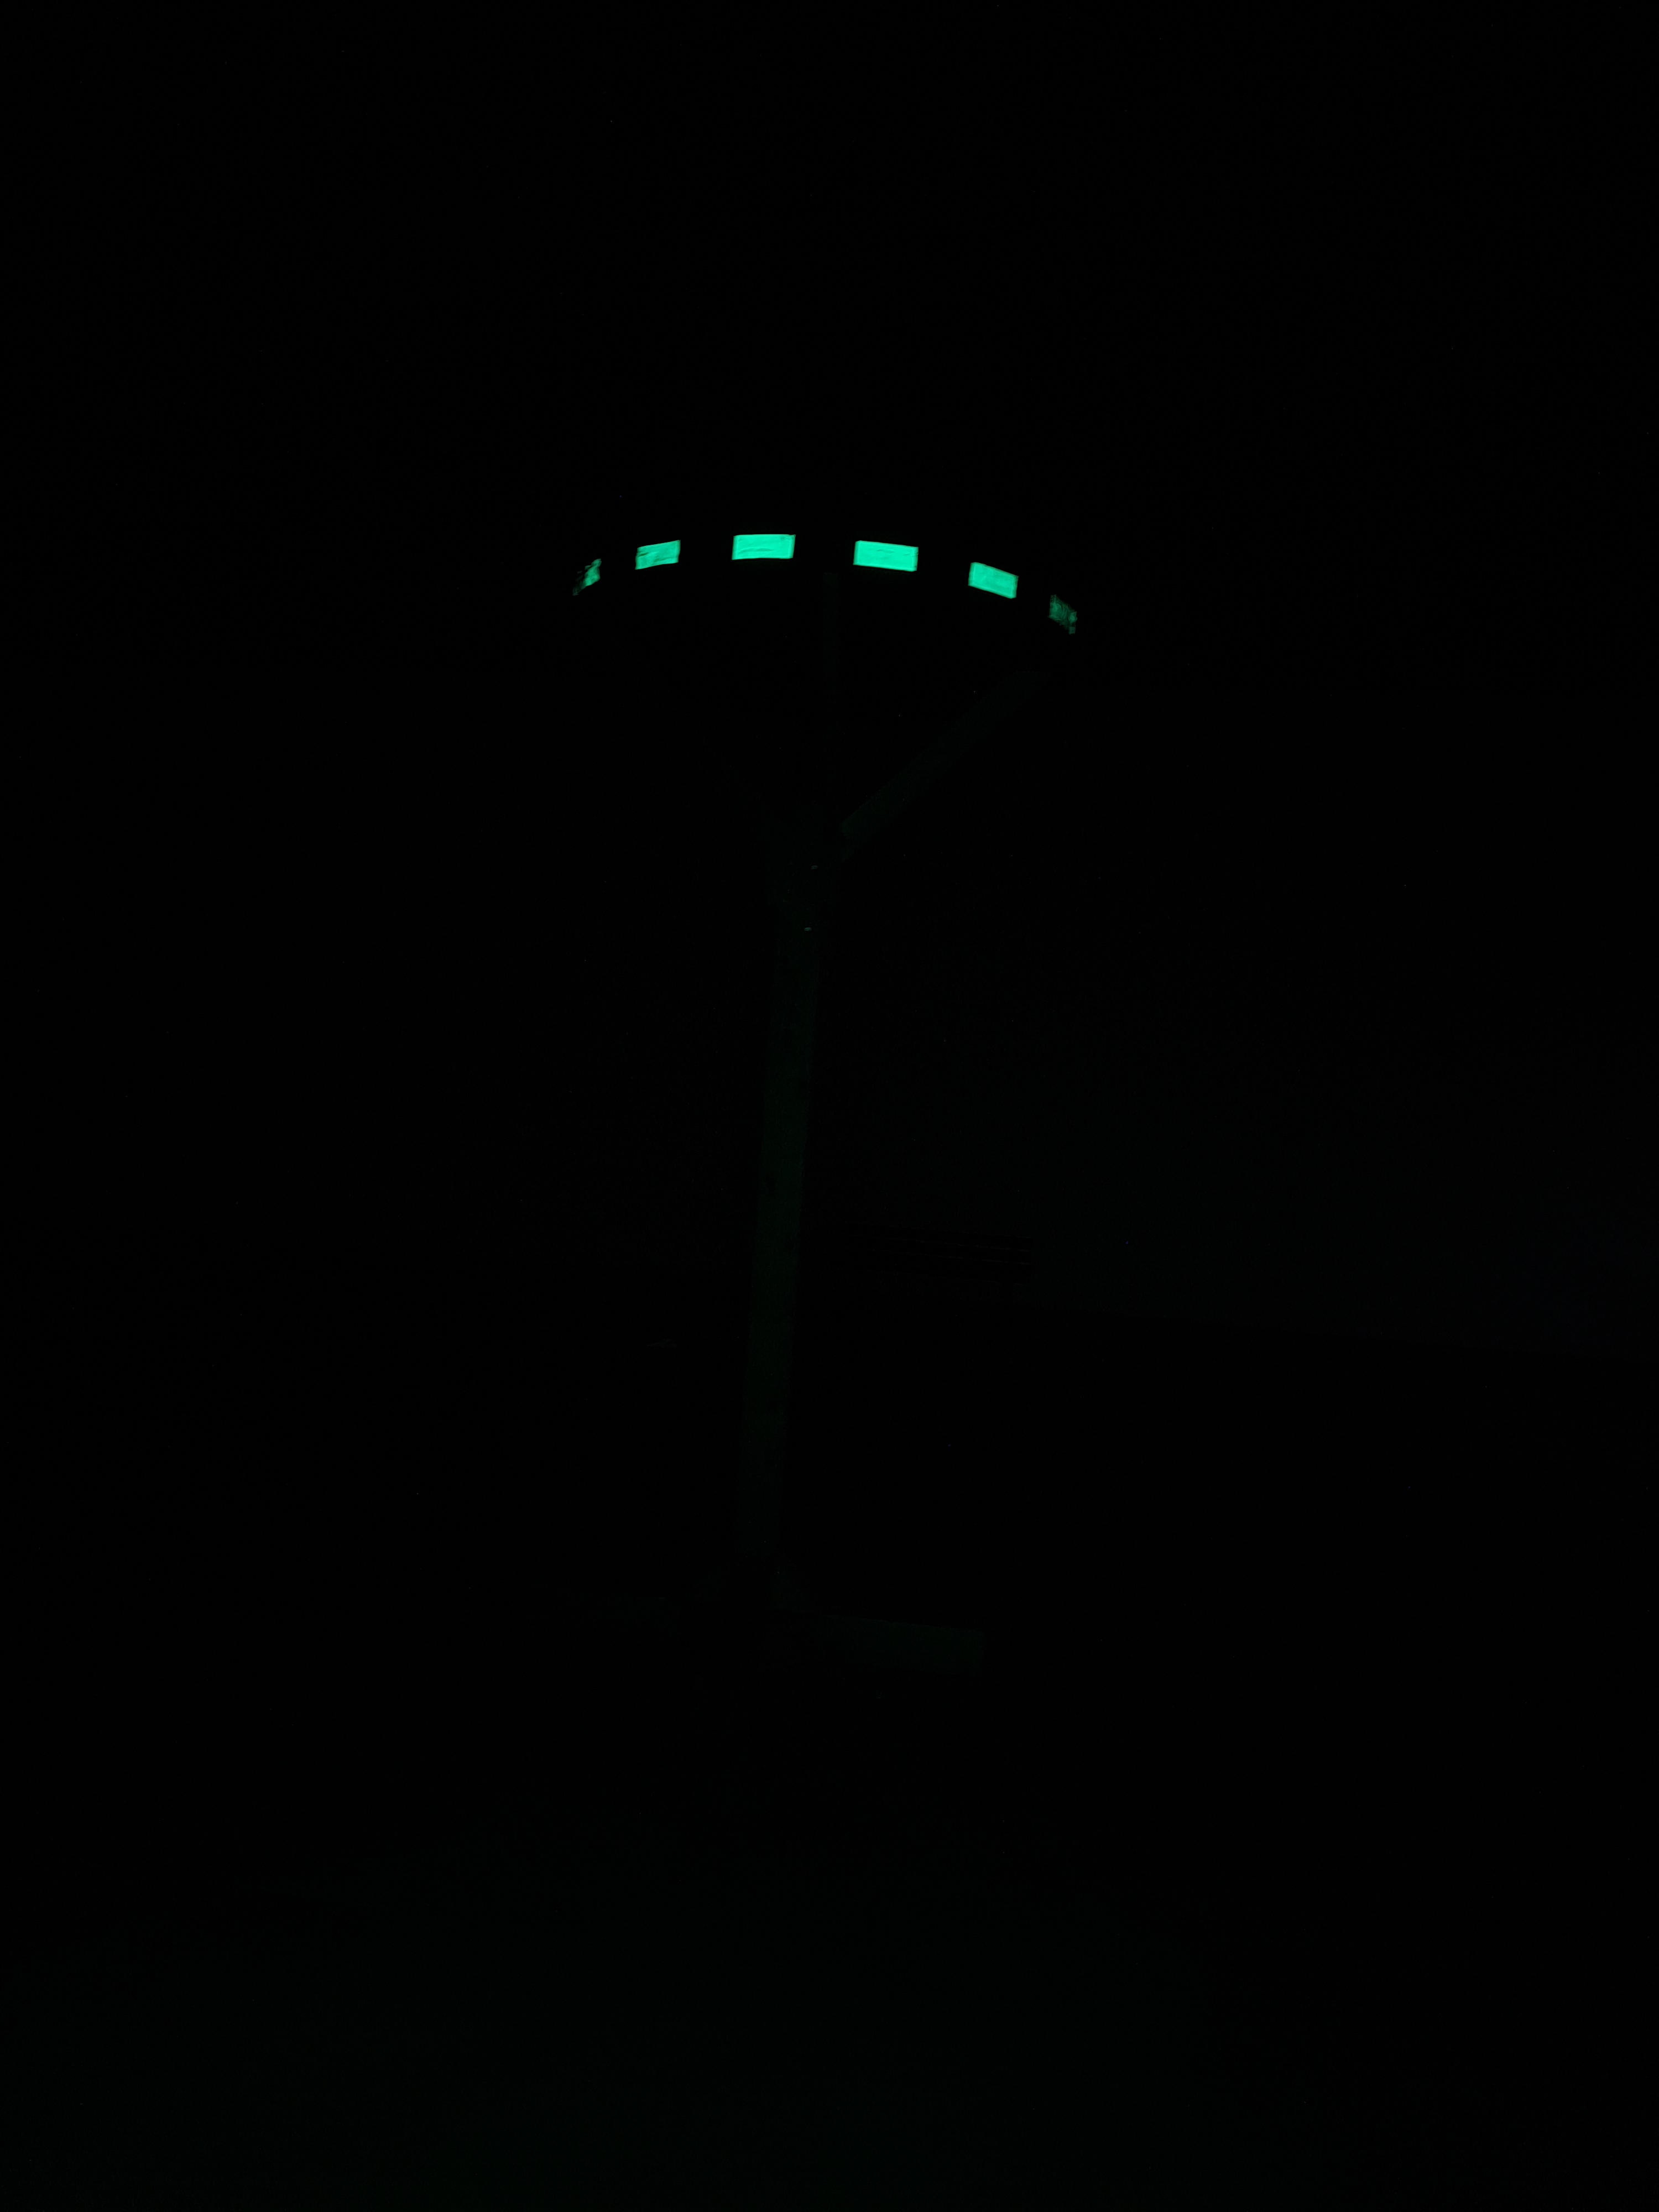hoop: (563, 521, 1082, 636)
